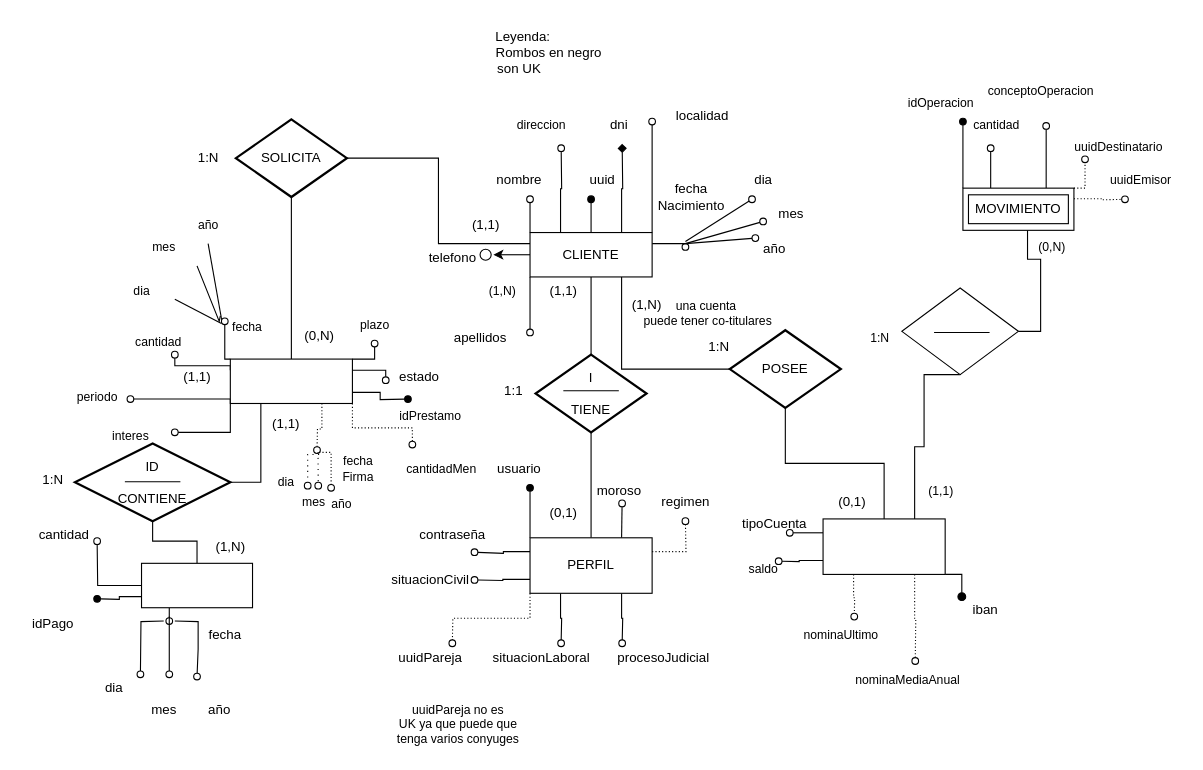
The diagram is 1203 pixels wide and 770 high, and some of its shapes have lost their labels. The shapes that lost their labels are listed below. From the top down, each one's centre as x and y in pixels, then its label:
At point 959,331: "I REALIZA".
At point 290,380: "PRESTAMO".
At point 883,546: "CUENTA".
At point 196,585: "PAGO".
